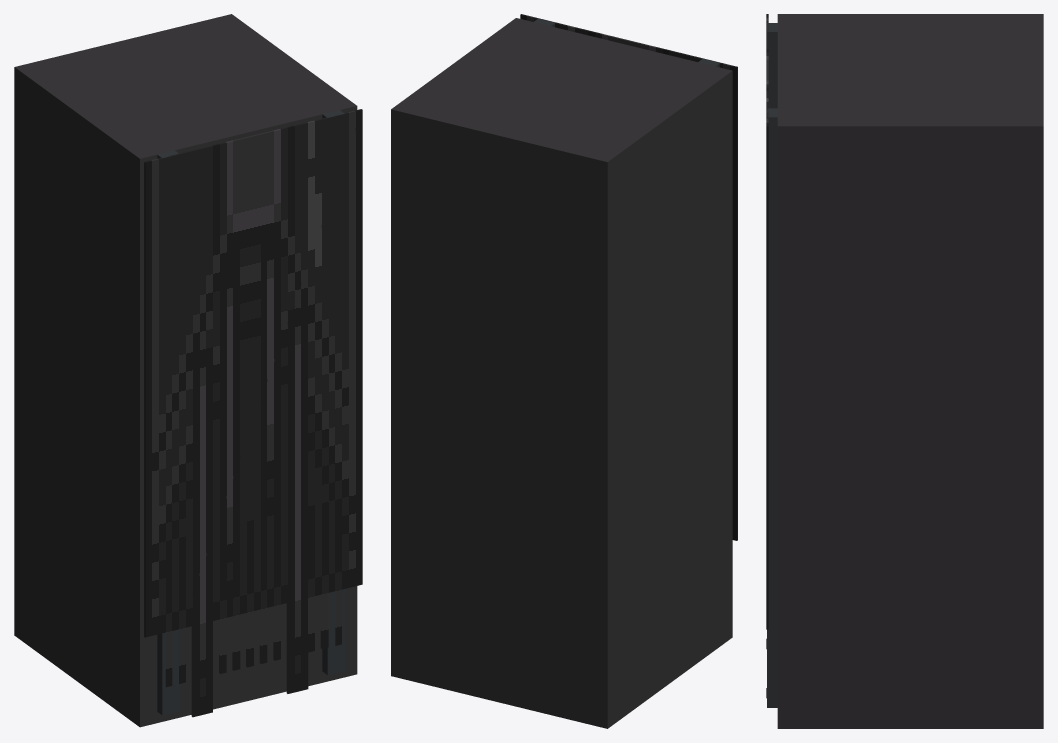
File: CMU3DReduxRMCWallElevatorBroken.glb
3 renders of one model, left to right at view 1: azimuth 30°, elevation 25°; view 2: azimuth 150°, elevation 25°; view 3: azimuth 270°, elevation 25°, orthographic. The views are drawn at different scales.
Visible parts, largest first — view 1: source face, elevator shaft wall, lift guide rail (×2); view 2: elevator shaft wall, source face; view 3: elevator shaft wall, lift guide rail (×2), source face.
Boxes of the visible parts, bbox=[...] form: source face: bbox=[144, 109, 362, 717]; elevator shaft wall: bbox=[14, 14, 357, 727]; lift guide rail (×2): bbox=[157, 110, 344, 715]; elevator shaft wall: bbox=[391, 18, 732, 728]; source face: bbox=[520, 14, 737, 540]; elevator shaft wall: bbox=[777, 14, 1043, 728]; lift guide rail (×2): bbox=[767, 23, 777, 707]; source face: bbox=[766, 14, 768, 698].
Size of the model in its own units: 1 by 2.5 by 1.04.
Materials: 3 (1 with a texture image).
